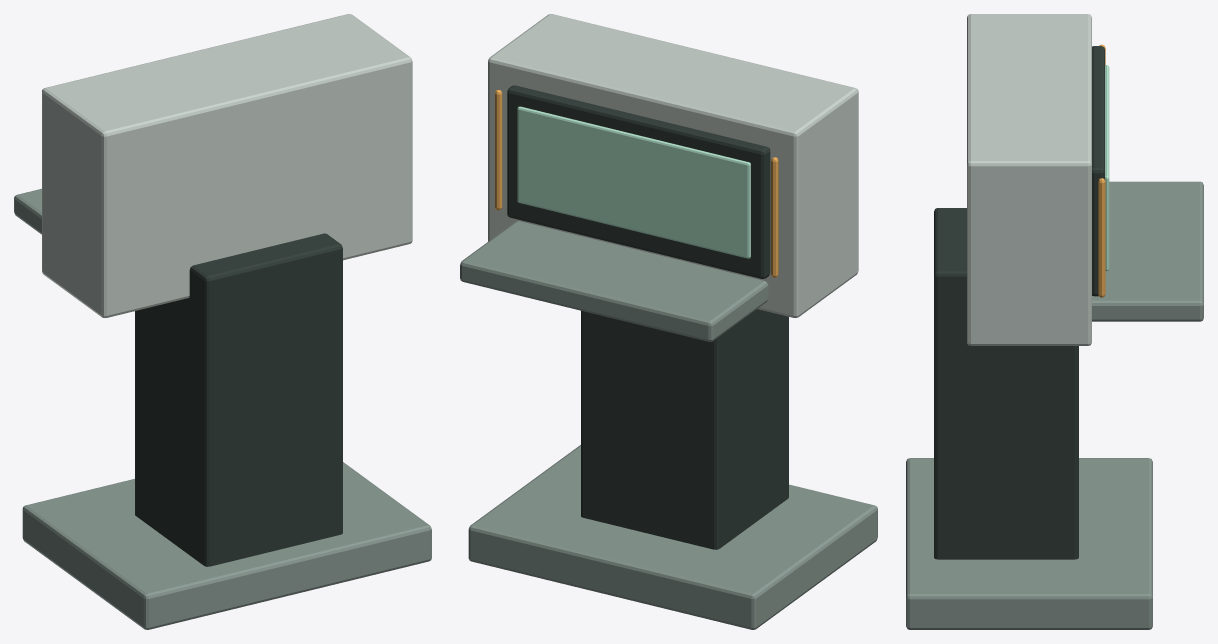
File: trade-terminal.glb
3 renders of one model, left to right at view 1: azimuth 30°, elevation 25°; view 2: azimuth 150°, elevation 25°; view 3: azimuth 270°, elevation 25°, orthographic.
Parts seen in each view (by area): view 1: Armored console, Service pedestal, Anchor foot, Control shelf; view 2: Armored console, Service pedestal, Anchor foot, Screen glass, Control shelf, Screen recess, Status rail, Status rail.001; view 3: Armored console, Service pedestal, Anchor foot, Control shelf, Screen recess, Screen glass, Status rail.001.
Part boxes in pixels (x1=…): Armored console: x1=42, y1=14, x2=412, y2=317; Service pedestal: x1=135, y1=233, x2=342, y2=566; Anchor foot: x1=22, y1=462, x2=431, y2=629; Control shelf: x1=14, y1=188, x2=41, y2=234; Armored console: x1=488, y1=14, x2=858, y2=317; Service pedestal: x1=581, y1=309, x2=788, y2=549; Anchor foot: x1=468, y1=445, x2=877, y2=629; Screen glass: x1=517, y1=106, x2=750, y2=258; Control shelf: x1=460, y1=221, x2=768, y2=341; Screen recess: x1=507, y1=85, x2=770, y2=278; Status rail: x1=771, y1=157, x2=778, y2=277; Status rail.001: x1=495, y1=90, x2=502, y2=210; Armored console: x1=967, y1=14, x2=1091, y2=345; Service pedestal: x1=934, y1=208, x2=1078, y2=559; Anchor foot: x1=906, y1=458, x2=1152, y2=629; Control shelf: x1=1092, y1=181, x2=1203, y2=321; Screen recess: x1=1092, y1=46, x2=1104, y2=296; Screen glass: x1=1105, y1=65, x2=1109, y2=270; Status rail.001: x1=1098, y1=178, x2=1105, y2=297.
Size of the model in its own units: 1.08 by 1.59 by 0.905.
